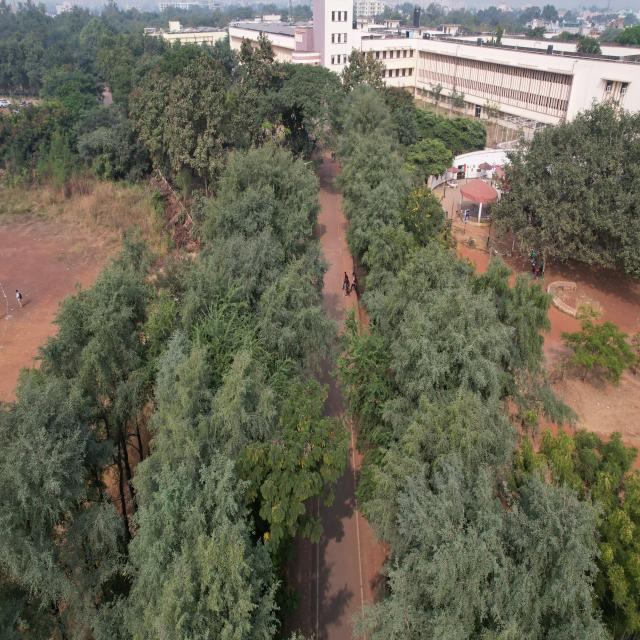Neem Tree: (581, 431, 640, 584)
